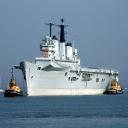Portanaves: (15, 18, 121, 100)
